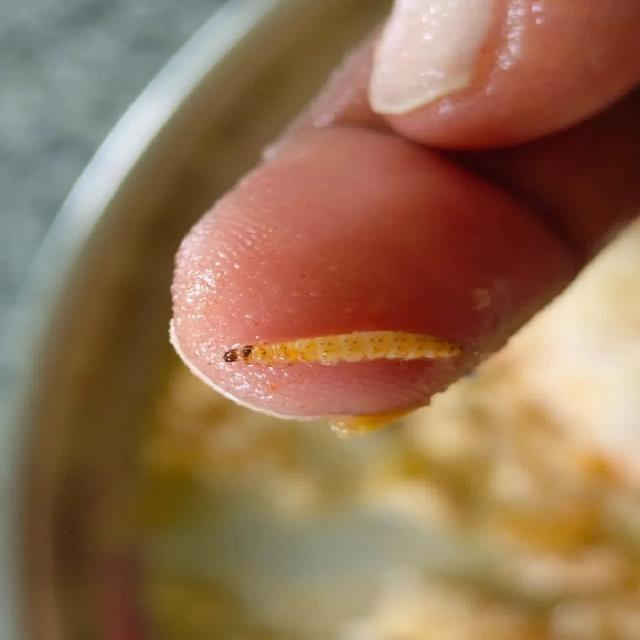worm: (219, 300, 479, 410)
